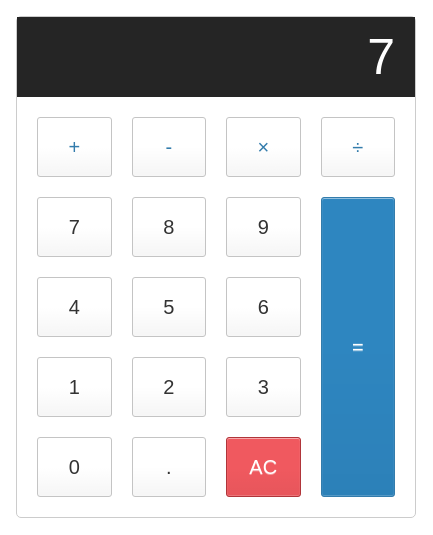
Test case: Event Handling Calculator Exercise Tests › should clear the display back to 0 when clicking the button AC
Click the button with class "all-clear" at (264, 467), box [226, 437, 301, 497]
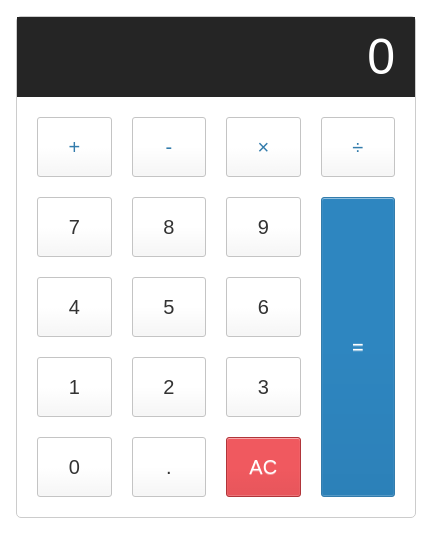
Now the field with id "display" holds "0", box [17, 17, 415, 97]
